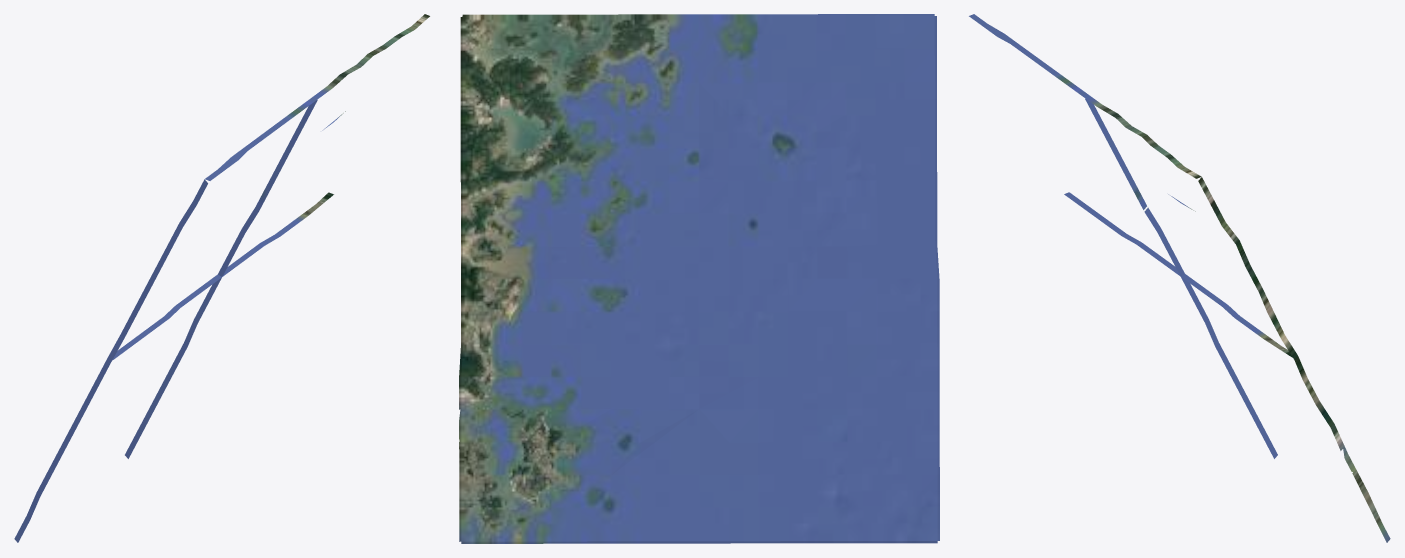
The picture shows the model from 3 angles, left to right: view 1: azimuth 30°, elevation 25°; view 2: azimuth 150°, elevation 25°; view 3: azimuth 270°, elevation 25°; orthographic projection. The views are drawn at different scales.
Size of the model in its own units: 157890 by 142668 by 132344.
1 material, 1 textured.
